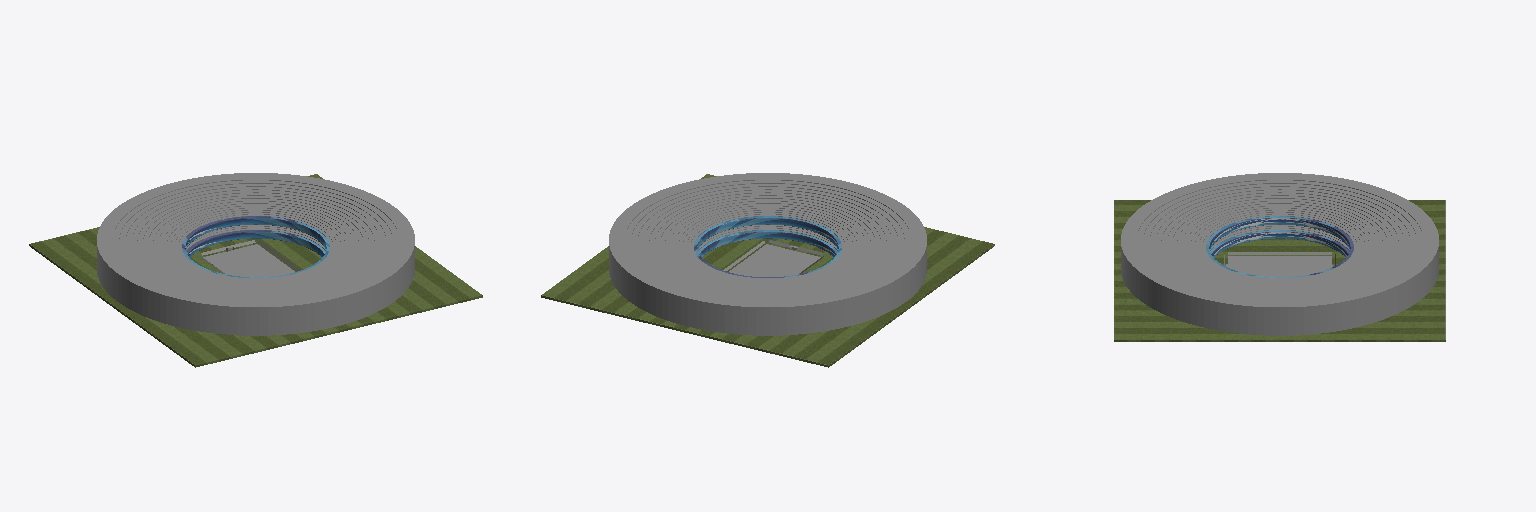
3 views of the same model, side by side, from view 1: azimuth 30°, elevation 25°; view 2: azimuth 150°, elevation 25°; view 3: azimuth 270°, elevation 25° (orthographic).
Parts seen in each view (by area): view 1: Campo, Estadio016, Estadio, Estadio020, Estadio027, Estadio022, Cancha, Estadio026, Estadio024, Estadio019, Estadio031, Estadio029 (+8 smaller); view 2: Campo, Estadio016, Estadio, Estadio020, Estadio027, Estadio022, Cancha, Estadio026, Estadio024, Estadio019, Estadio031, Estadio029 (+8 smaller); view 3: Estadio016, Campo, Estadio, Estadio020, Estadio027, Estadio022, Cancha, Estadio026, Estadio024, Estadio019, Estadio031, Estadio029 (+8 smaller).
Part boxes in pixels (x1,y1,x2,y2): Campo: (29,174,482,367); Estadio016: (97,173,414,321); Estadio: (97,261,414,335); Estadio020: (113,180,398,300); Estadio027: (119,184,392,298); Estadio022: (126,187,385,296); Cancha: (203,244,294,276); Estadio026: (132,190,379,294); Estadio024: (137,193,374,292); Estadio019: (182,216,329,277); Estadio031: (143,196,368,290); Estadio029: (148,199,363,288); Campo: (541,174,994,367); Estadio016: (609,173,926,321); Estadio: (609,261,926,335); Estadio020: (625,180,910,300); Estadio027: (631,184,904,298); Estadio022: (638,187,897,296); Cancha: (729,244,820,276); Estadio026: (644,190,891,294); Estadio024: (649,193,886,292); Estadio019: (694,216,841,277); Estadio031: (655,196,880,290); Estadio029: (660,199,875,288); Estadio016: (1121,173,1438,321); Campo: (1114,200,1445,341); Estadio: (1121,261,1438,335); Estadio020: (1137,180,1422,300); Estadio027: (1143,184,1416,298); Estadio022: (1150,187,1409,296); Cancha: (1228,256,1331,276); Estadio026: (1156,190,1403,294); Estadio024: (1161,193,1398,292); Estadio019: (1206,216,1353,277); Estadio031: (1167,196,1392,290); Estadio029: (1172,199,1387,288).
Bounding box in the file's own units: 318 × 33.48 × 318.
7 materials, 2 textured.